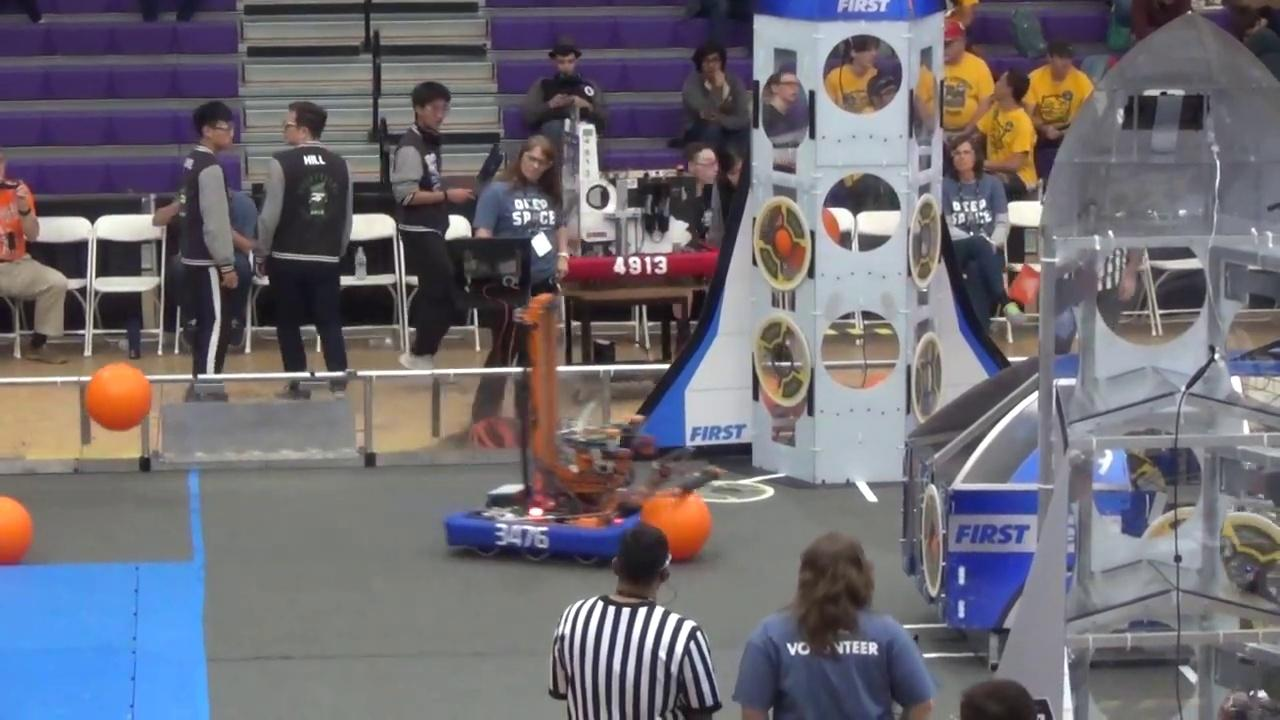robot: (442, 290, 696, 567)
